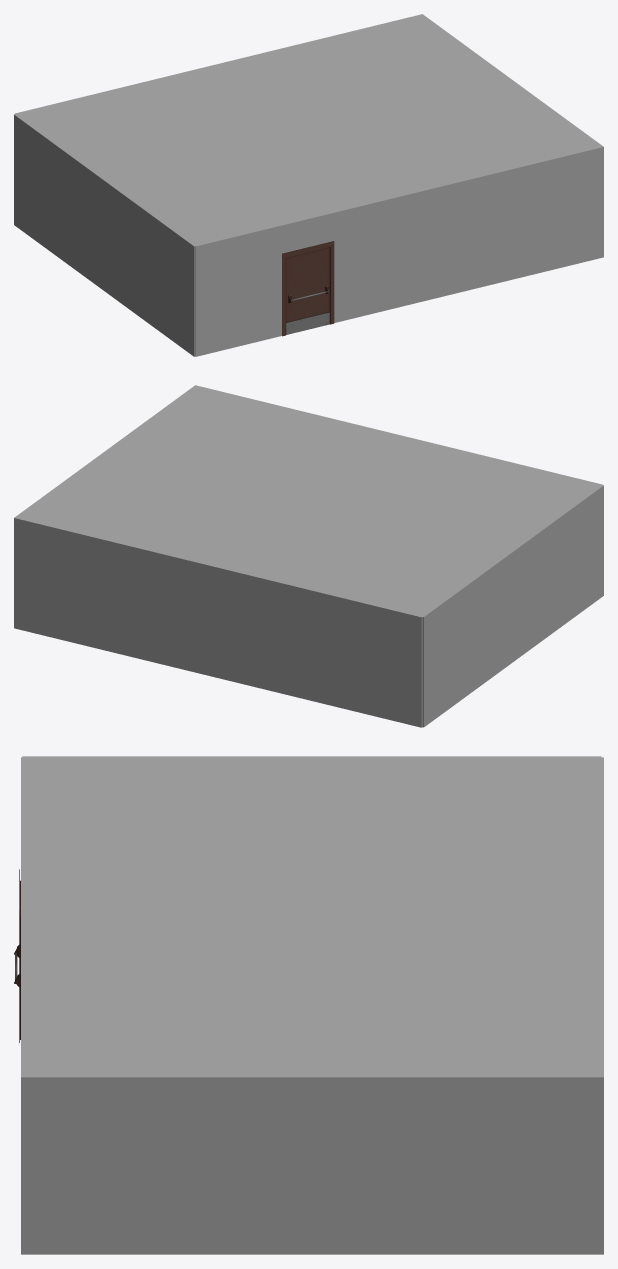
The model's file is second server room.fbx.
The picture shows the model from 3 angles, top to bottom: view 1: azimuth 30°, elevation 25°; view 2: azimuth 150°, elevation 25°; view 3: azimuth 270°, elevation 25°; orthographic projection. The views are drawn at different scales.
Visible parts, largest first — view 1: pPlane18, server_rm_2_walls, Door4, DoorFrame; view 2: pPlane18, server_rm_2_walls; view 3: pPlane18, server_rm_2_walls.
Part boxes in pixels (bbox=[...]): pPlane18: bbox=[15, 15, 601, 245]; server_rm_2_walls: bbox=[14, 14, 603, 356]; Door4: bbox=[286, 247, 330, 334]; DoorFrame: bbox=[282, 241, 334, 336]; pPlane18: bbox=[16, 386, 601, 616]; server_rm_2_walls: bbox=[14, 385, 603, 727]; pPlane18: bbox=[22, 757, 601, 1075]; server_rm_2_walls: bbox=[21, 756, 603, 1254].
Size of the model in its own units: 1163 by 300 by 904.
